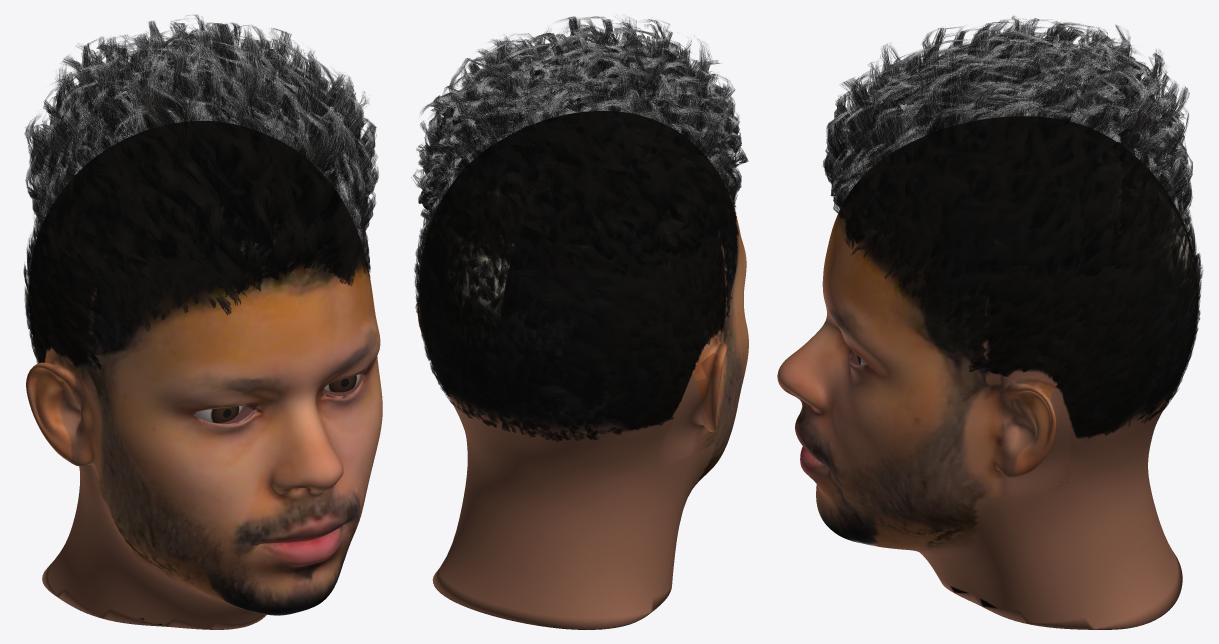
Rendered from digital_double.glb.
3 views of the same model, side by side, from view 1: azimuth 30°, elevation 25°; view 2: azimuth 150°, elevation 25°; view 3: azimuth 270°, elevation 25° (orthographic). The views are drawn at different scales.
Visible parts, largest first — view 1: Web_Head, Web_Hair, Web_Eye_L; view 2: Web_Hair, Web_Head; view 3: Web_Head, Web_Hair.
Boxes of the visible parts, x1,y1,x2,y2 form: Web_Head: (26,121,382,629); Web_Hair: (23,14,378,370); Web_Eye_L: (195,405,242,422); Web_Hair: (411,16,748,441); Web_Head: (417,111,748,629); Web_Head: (777,116,1197,629); Web_Hair: (823,16,1203,437).
Bounding box in the file's own units: 0.1406 × 0.2313 × 0.1658.
5 materials, 3 textured.
